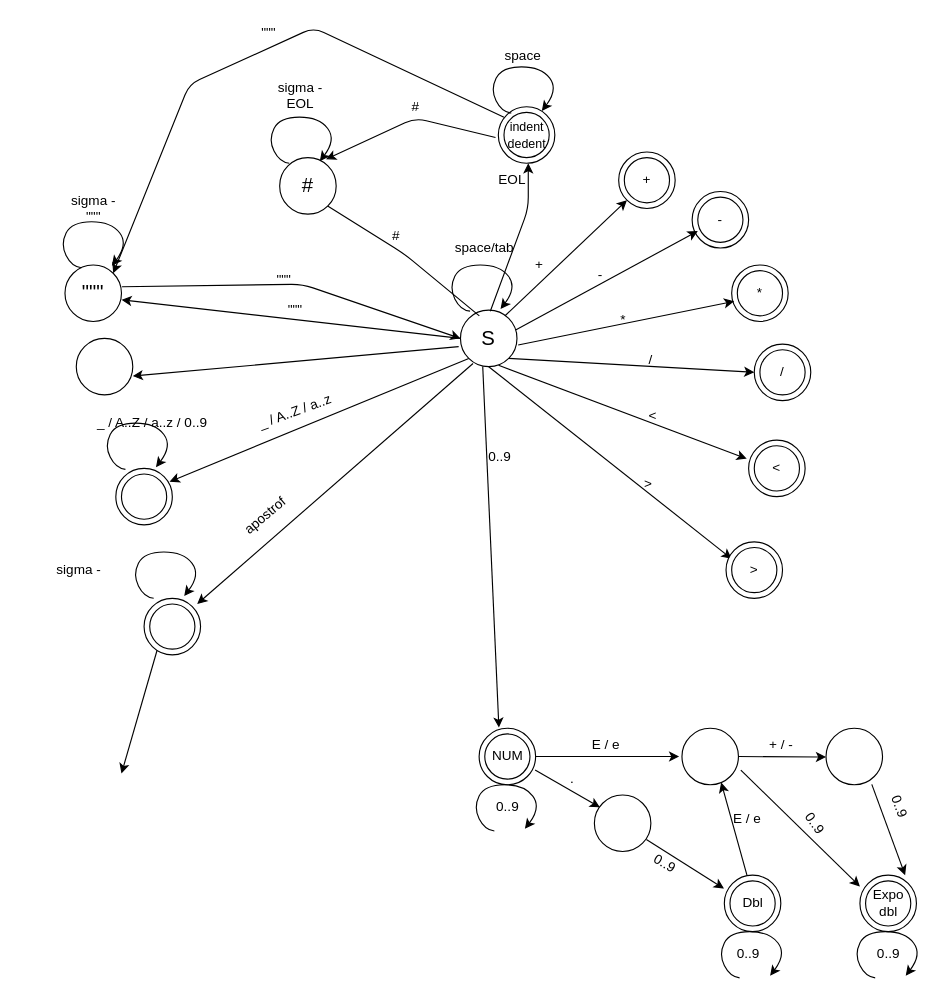
The diagram is 937 pixels wide and 998 high, and some of its shapes have lost their labels. The centre of each missing label's shape, as x and y in pixels:
"desetina cast" belongs at point (622, 822).
"EOF" belongs at point (104, 366).
"expo tvar" belongs at point (709, 756).
"F1" belongs at point (143, 496).
"nevim" belongs at point (854, 756).
"string" belongs at point (172, 626).
